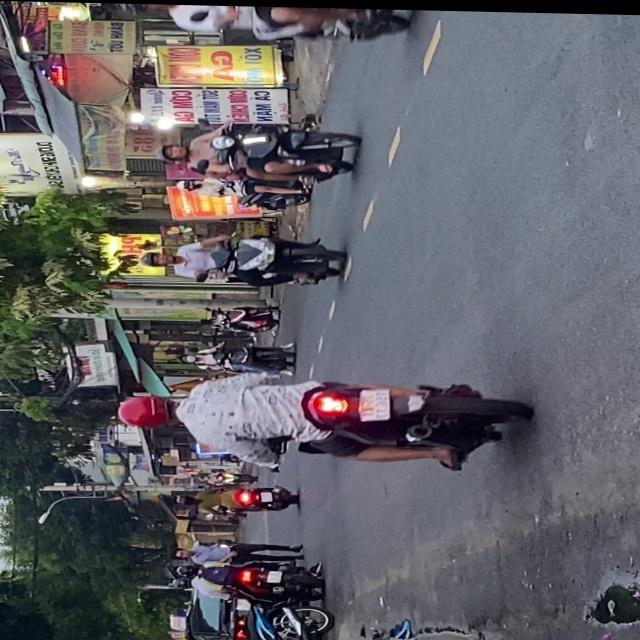helmet: (116, 390, 182, 429), (138, 248, 175, 267), (153, 141, 189, 160)
licenseplate: (114, 365, 528, 472), (151, 120, 362, 183), (121, 3, 426, 46), (137, 228, 347, 288)
nohelmet: (359, 387, 389, 417)
